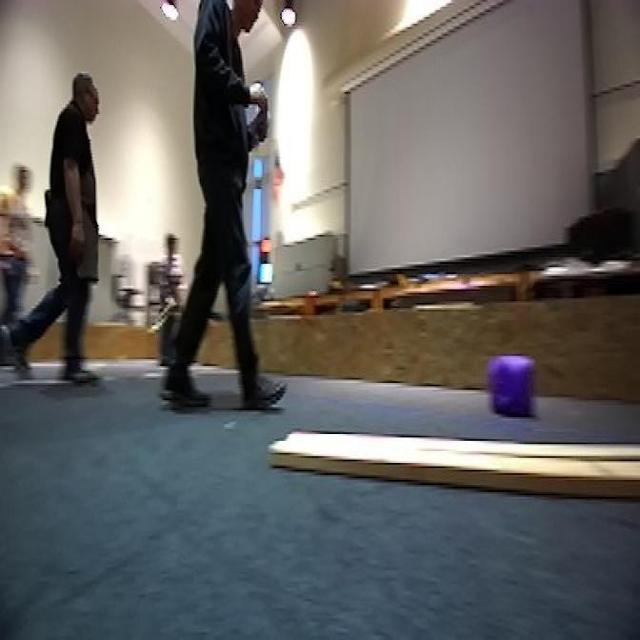frc_cube: (487, 354, 536, 420)
